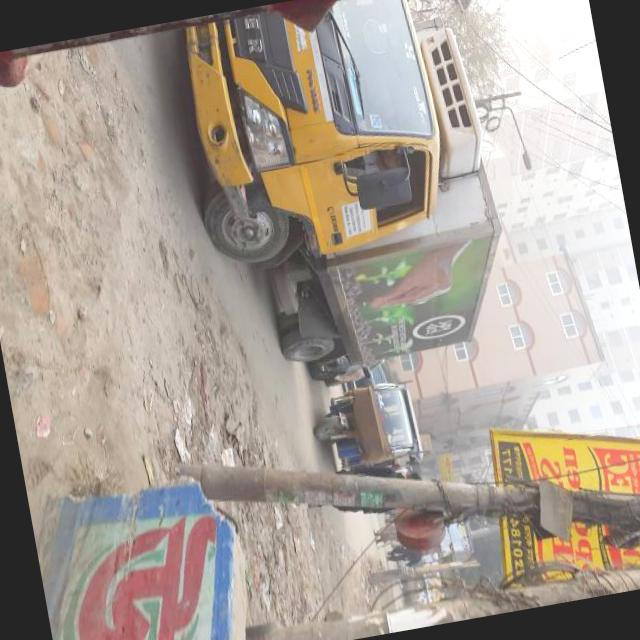motorcycle: (305, 374, 426, 479)
truck: (171, 0, 520, 382)
